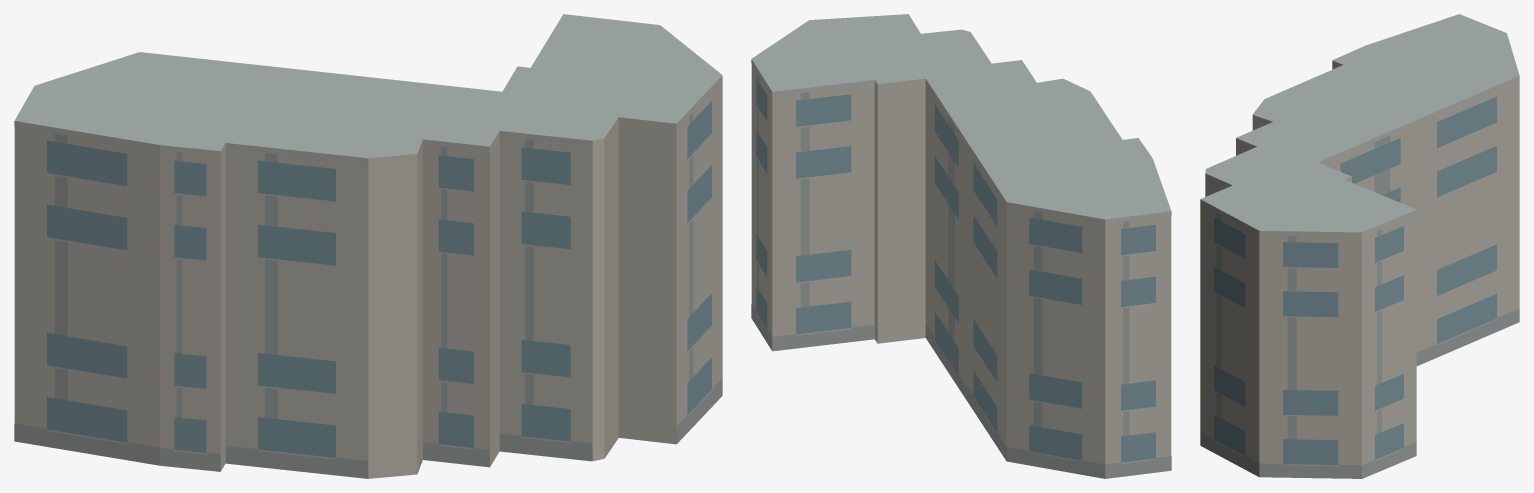
File: survey-upis-32810073.glb
3 renders of one model, left to right at view 1: azimuth 30°, elevation 25°; view 2: azimuth 150°, elevation 25°; view 3: azimuth 270°, elevation 25°, orthographic. The views are drawn at different scales.
Parts seen in each view (by area): view 1: survey-upis-32810073.tmp; view 2: survey-upis-32810073.tmp; view 3: survey-upis-32810073.tmp.
Boxes of the visible parts, x1,y1,x2,y2 form: survey-upis-32810073.tmp: [14, 14, 722, 478]; survey-upis-32810073.tmp: [751, 14, 1171, 478]; survey-upis-32810073.tmp: [1200, 14, 1519, 478].
Size of the model in its own units: 27.19 by 14.3 by 16.81.
